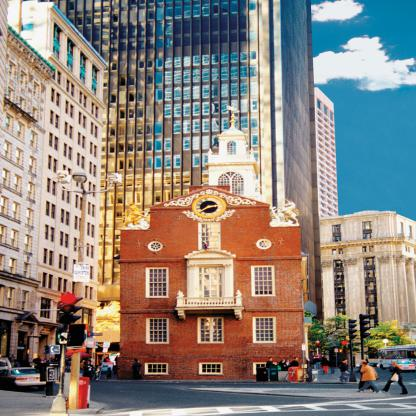State House: (110, 100, 332, 391)
